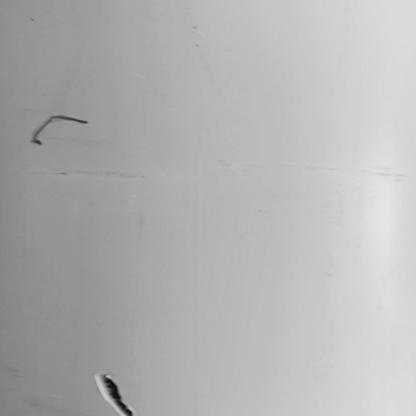fengxi: (13, 114, 94, 150)
kongdong: (84, 369, 141, 416)
